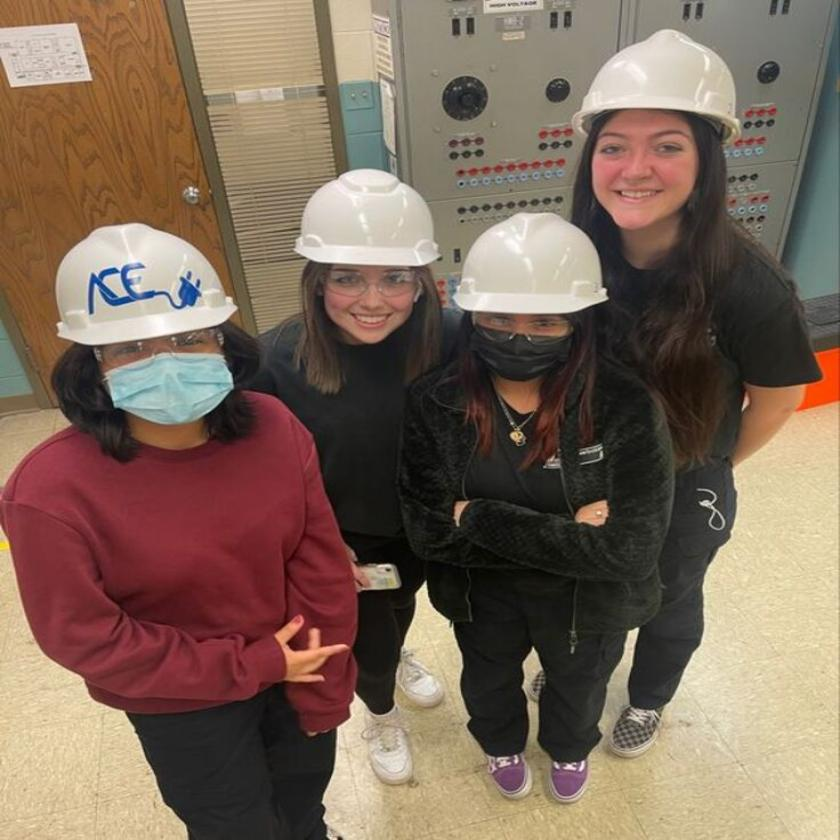Con_casco: (48, 219, 247, 446), (566, 31, 740, 268), (290, 164, 445, 364), (449, 210, 612, 400)
